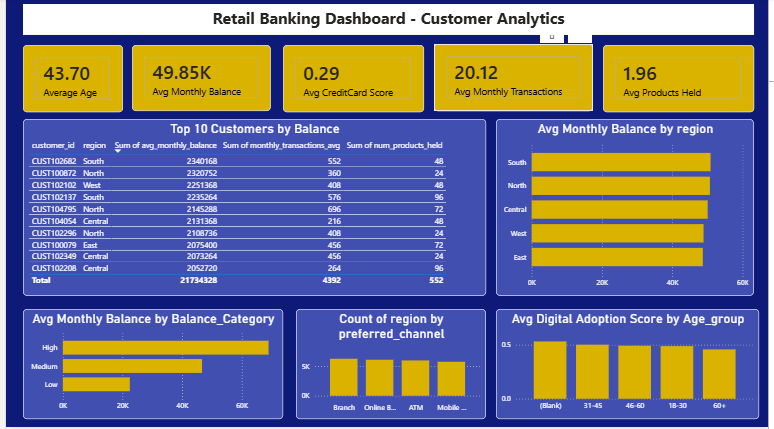

This screenshot's page, from the dashboard's own definition file:
{"tool":"powerbi","page":{"name":"Customer Analytics","canvas":[1280,720],"ordinal":1},"visuals":[{"type":"cardVisual","fields":{"Data":["merged_retail_banking.Average Age"]},"box":[28.6,79,168,112.5],"z":0},{"type":"cardVisual","fields":{"Data":["merged_retail_banking.Avg Monthly Balance"]},"box":[211.7,79,233.5,110.9],"z":1000},{"type":"cardVisual","fields":{"Data":["merged_retail_banking.Avg Monthly Transactions"]},"box":[719,77.3,267.1,112.5],"z":2000},{"type":"cardVisual","fields":{"Data":["merged_retail_banking.Avg Products Held"]},"box":[1002.8,79,253.6,112.5],"z":3000},{"type":"cardVisual","fields":{"Data":["merged_retail_banking.Avg CreditCard Score"]},"box":[465.3,79,236.9,112.5],"z":4000},{"type":"barChart","fields":{"Category":["merged_retail_banking.Balance_Category"],"Y":["merged_retail_banking.Avg Monthly Balance"]},"box":[28.6,522.4,436.7,184.8],"z":5000},{"type":"columnChart","fields":{"Y":["merged_retail_banking.Avg Digital Adoption"],"Category":["merged_retail_banking.Age_group"]},"box":[823.1,522.4,441.8,184.8],"z":6000},{"type":"barChart","fields":{"Category":["merged_retail_banking.region"],"Y":["merged_retail_banking.Avg Monthly Balance"]},"box":[823.1,203.3,433.4,297.3],"z":7000},{"type":"columnChart","fields":{"Y":["CountNonNull(merged_retail_banking.region)"],"Category":["merged_retail_banking.preferred_channel"]},"box":[487.1,522.4,319.2,184.8],"z":8000},{"type":"tableEx","title":"Top 10 Customers by Balance","fields":{"Values":["merged_retail_banking.customer_id","merged_retail_banking.region","Sum(merged_retail_banking.avg_monthly_balance)","Sum(merged_retail_banking.monthly_transactions_avg)","Sum(merged_retail_banking.num_products_held)"]},"box":[28.6,203.3,777.7,297.3],"z":9000},{"type":"textbox","box":[28.6,10.1,1227.9,52.1],"z":10000}]}

Visuals, with their boxes in screenshot pixels (x1, y1, x2, y2), scaled from the page's 1280x720 canvas onto the 774x429 screenshot:
cardVisual - merged_retail_banking.Average Age: region(17, 47, 119, 114)
cardVisual - merged_retail_banking.Avg Monthly Balance: region(128, 47, 269, 113)
cardVisual - merged_retail_banking.Avg Monthly Transactions: region(435, 46, 596, 113)
cardVisual - merged_retail_banking.Avg Products Held: region(606, 47, 760, 114)
cardVisual - merged_retail_banking.Avg CreditCard Score: region(281, 47, 425, 114)
barChart - merged_retail_banking.Balance_Category x merged_retail_banking.Avg Monthly Balance: region(17, 311, 281, 421)
columnChart - merged_retail_banking.Avg Digital Adoption x merged_retail_banking.Age_group: region(498, 311, 765, 421)
barChart - merged_retail_banking.region x merged_retail_banking.Avg Monthly Balance: region(498, 121, 760, 298)
columnChart - CountNonNull(merged_retail_banking.region) x merged_retail_banking.preferred_channel: region(295, 311, 488, 421)
"Top 10 Customers by Balance" tableEx: region(17, 121, 488, 298)
textbox: region(17, 6, 760, 37)
